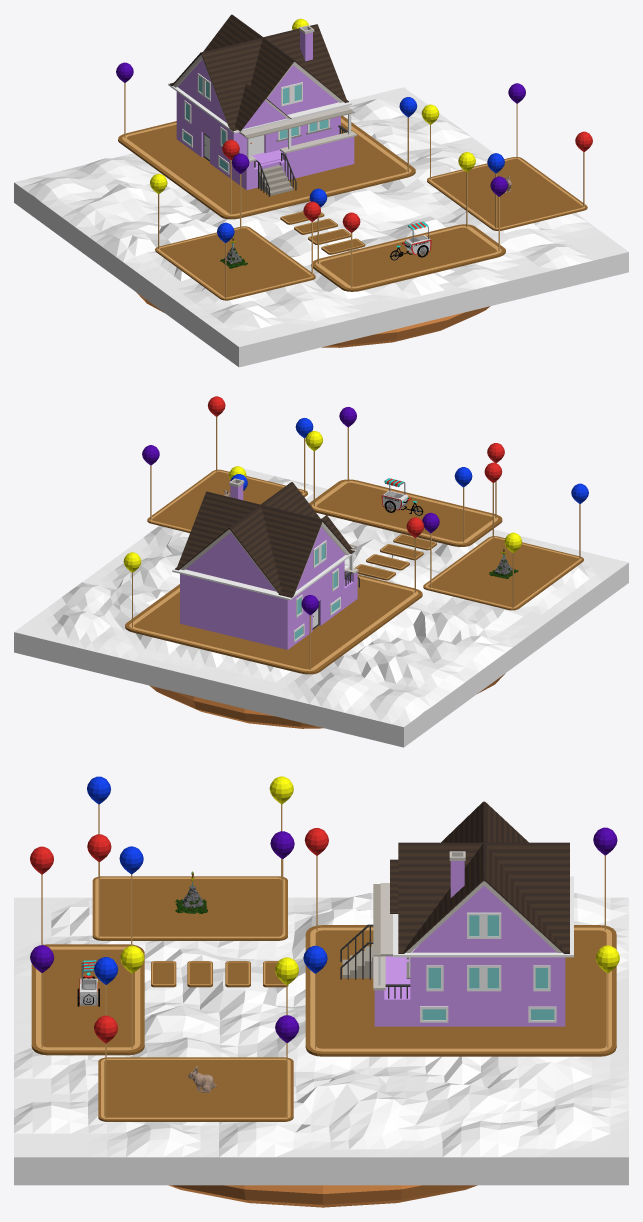
3 renders of one model, top to bottom at view 1: azimuth 30°, elevation 25°; view 2: azimuth 150°, elevation 25°; view 3: azimuth 270°, elevation 25°, orthographic. The views are drawn at different scales.
Parts seen in each view (by area): view 1: Cube.013, Cube.391, UNDERGROUND_PIZZA, VEHICLES_SNOWBAL_BIKE; view 2: Cube.013, Cube.391, UNDERGROUND_PIZZA, VEHICLES_SNOWBAL_BIKE; view 3: Cube.013, Cube.391, UNDERGROUND_PIZZA, VEHICLES_SNOWBAL_BIKE, OBJRANDOM_SWORD_IN_THE_STONE.
Boxes of the visible parts, left/top/right/bottom form: Cube.013: left=14, top=18, right=628, bottom=367; Cube.391: left=168, top=14, right=356, bottom=196; UNDERGROUND_PIZZA: left=136, top=292, right=490, bottom=347; VEHICLES_SNOWBAL_BIKE: left=390, top=221, right=431, bottom=260; Cube.013: left=14, top=396, right=628, bottom=747; Cube.391: left=172, top=478, right=359, bottom=649; UNDERGROUND_PIZZA: left=149, top=673, right=505, bottom=728; VEHICLES_SNOWBAL_BIKE: left=381, top=478, right=423, bottom=515; Cube.013: left=14, top=776, right=628, bottom=1185; Cube.391: left=340, top=801, right=573, bottom=1026; UNDERGROUND_PIZZA: left=169, top=1185, right=477, bottom=1207; VEHICLES_SNOWBAL_BIKE: left=77, top=960, right=100, bottom=1006; OBJRANDOM_SWORD_IN_THE_STONE: left=174, top=871, right=207, bottom=914.
Size of the model in its own units: 4000 by 1899 by 4000.
Materials: 45 (1 with a texture image).
